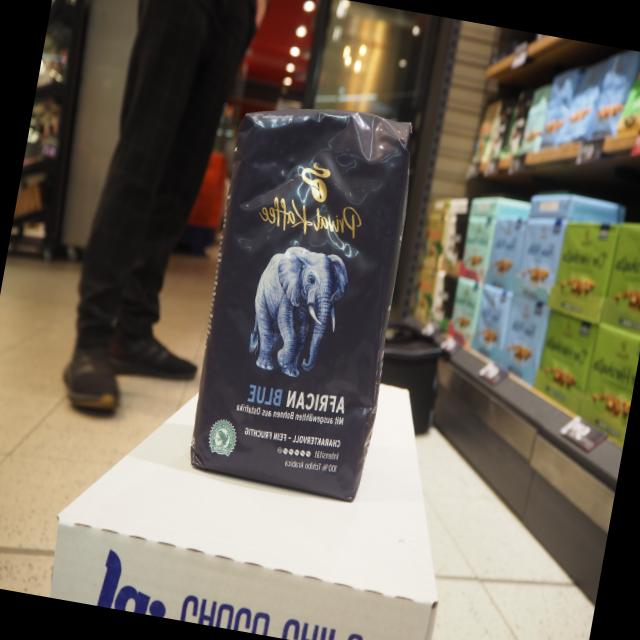AB Bohne: (181, 102, 420, 507)
